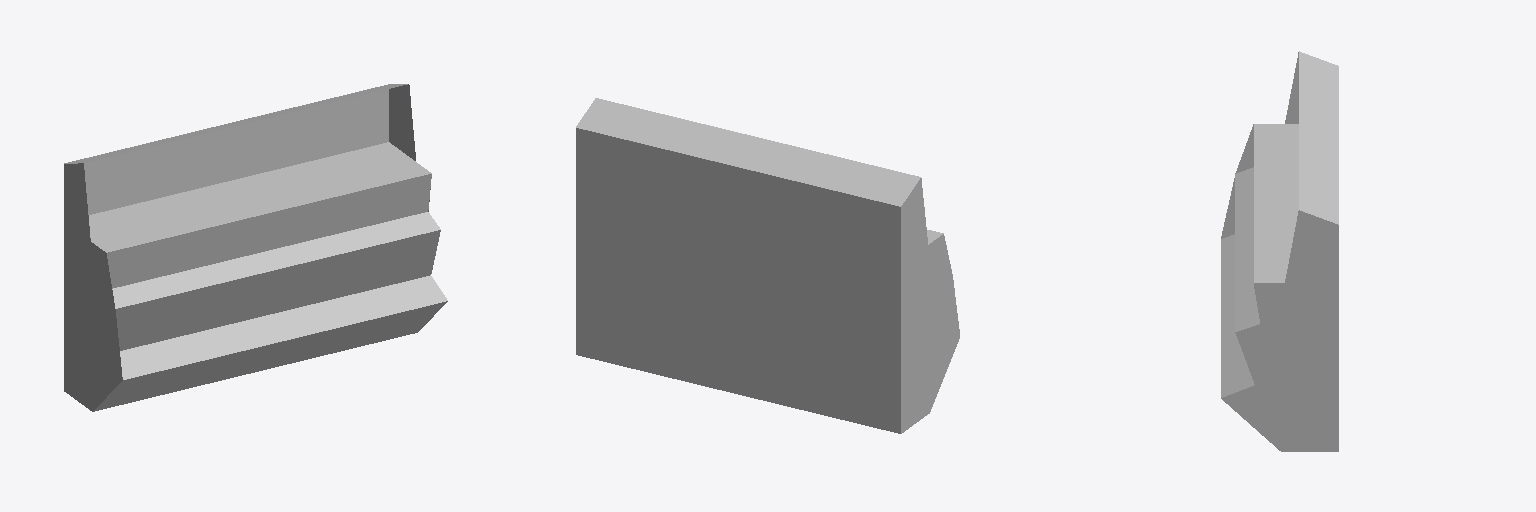
3 views of the same model, side by side, from view 1: azimuth 30°, elevation 25°; view 2: azimuth 150°, elevation 25°; view 3: azimuth 270°, elevation 25° (orthographic).
Visible parts, largest first — view 1: GenericCeiling_80, OutsideGround_20, WhiteInteriorWall_70, ASHRAE_ZONE3B_32; view 2: GenericFloor_20, OutsideGround_20, WhiteInteriorWall_70; view 3: WhiteInteriorWall_70, OutsideGround_20, ASHRAE_ZONE3B_32, GenericCeiling_80.
Part boxes in pixels (bbox=[...]): GenericCeiling_80: bbox=[93, 174, 447, 411]; OutsideGround_20: bbox=[64, 84, 415, 240]; WhiteInteriorWall_70: bbox=[64, 148, 430, 411]; ASHRAE_ZONE3B_32: bbox=[89, 142, 447, 379]; GenericFloor_20: bbox=[576, 186, 900, 433]; OutsideGround_20: bbox=[576, 98, 927, 264]; WhiteInteriorWall_70: bbox=[901, 234, 959, 433]; WhiteInteriorWall_70: bbox=[1221, 124, 1338, 451]; OutsideGround_20: bbox=[1285, 51, 1338, 282]; ASHRAE_ZONE3B_32: bbox=[1221, 124, 1265, 397]; GenericCeiling_80: bbox=[1227, 167, 1259, 395].
Bounding box in the file's own units: 40 × 29.45 × 12.62.